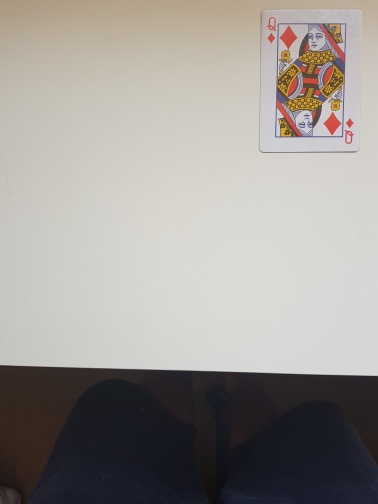queen: (257, 7, 364, 153)
